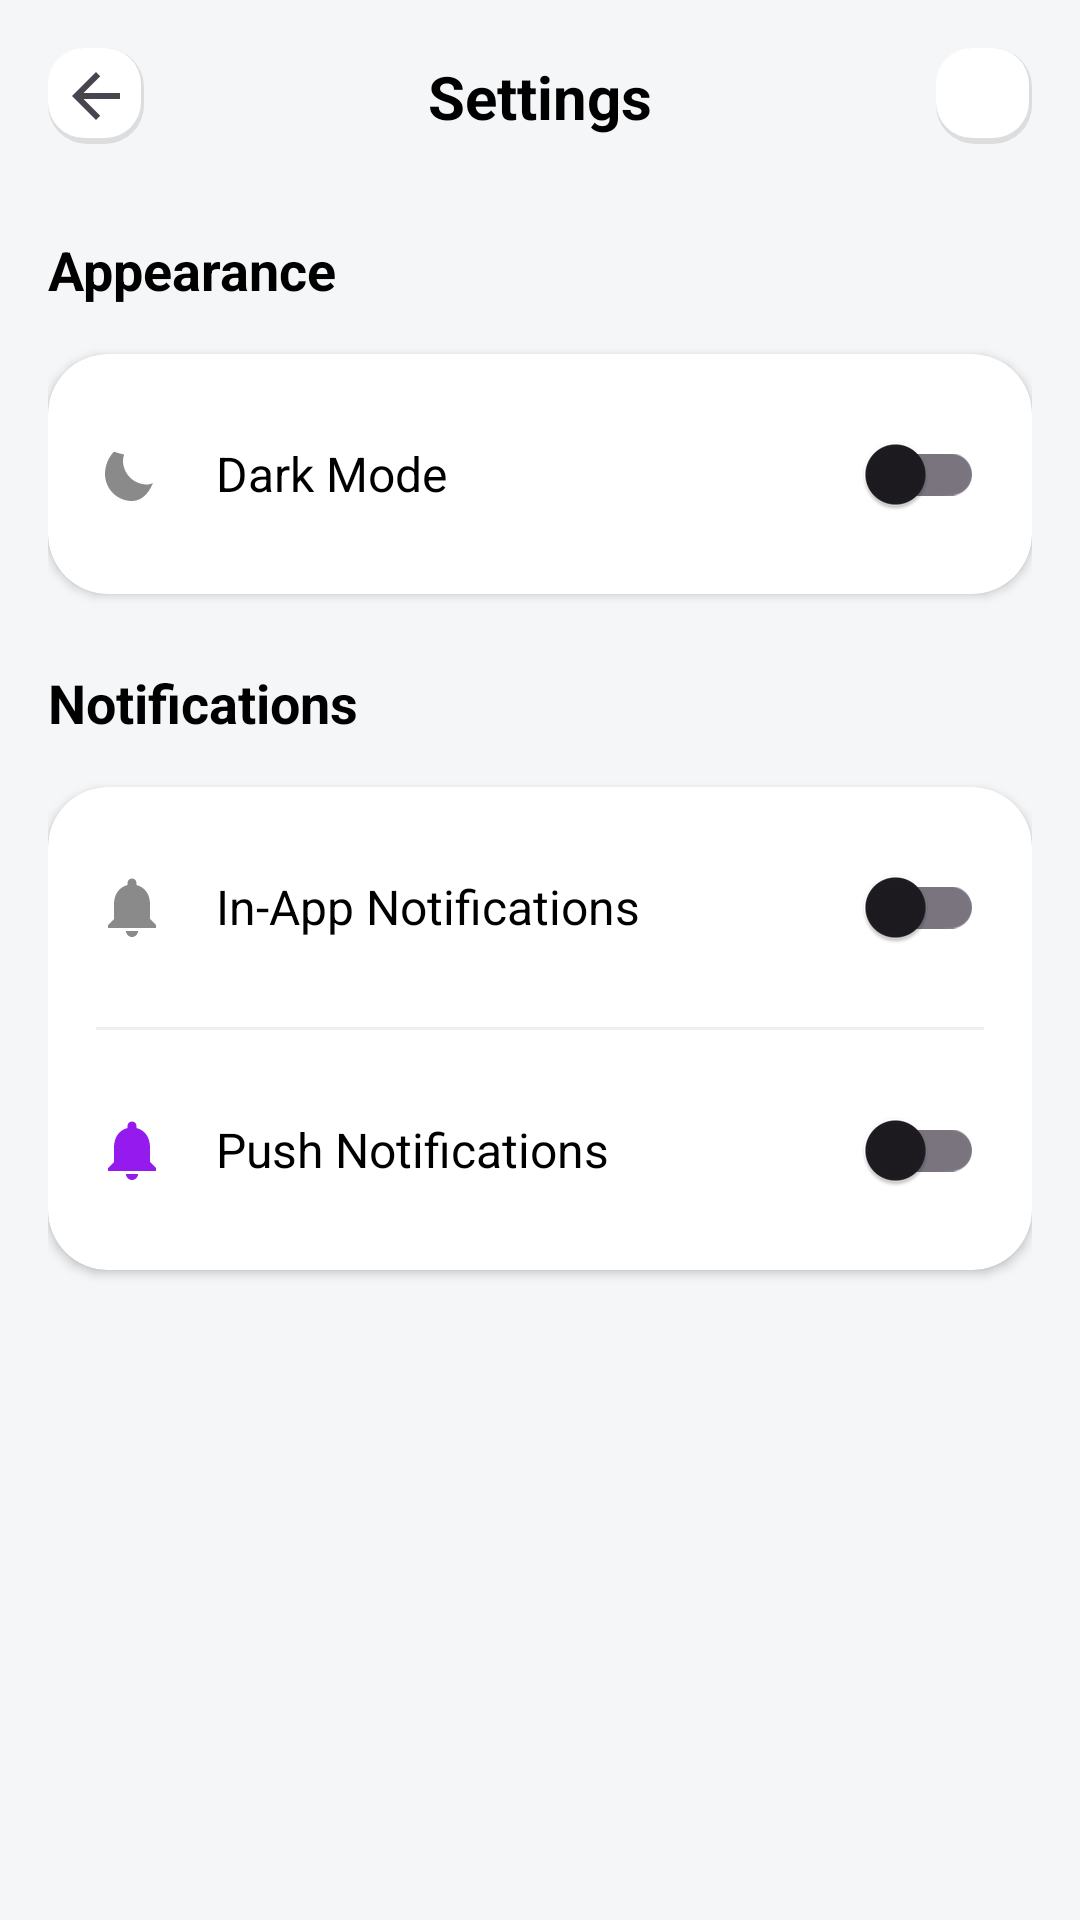

Named icons in this screenshot (1080w x 1920h) and their centers, (x=x, y=y):
arrow back: (x=96, y=96)
